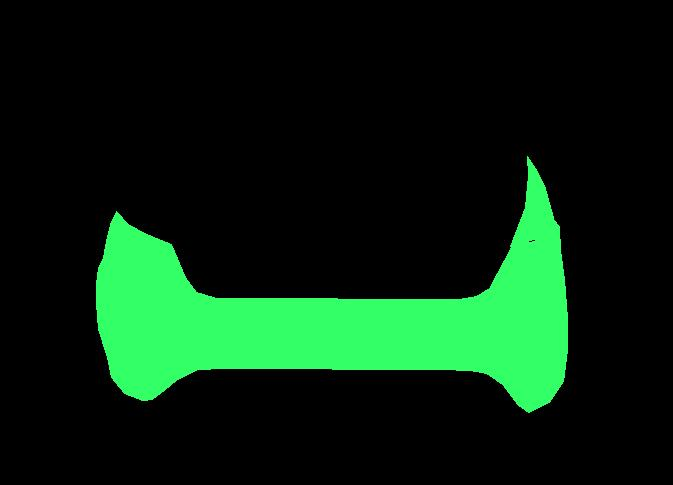Broken part: (96, 211, 567, 412), (510, 156, 553, 246)
Paint chip: (534, 267, 561, 306), (529, 271, 551, 308), (526, 326, 564, 339), (545, 256, 561, 286), (543, 292, 563, 308), (556, 280, 565, 293), (519, 303, 528, 310), (542, 277, 550, 284), (546, 337, 550, 347), (542, 300, 544, 314), (554, 280, 556, 293), (524, 307, 529, 311), (546, 252, 550, 257), (545, 264, 550, 266), (554, 339, 556, 343), (555, 251, 557, 254)
